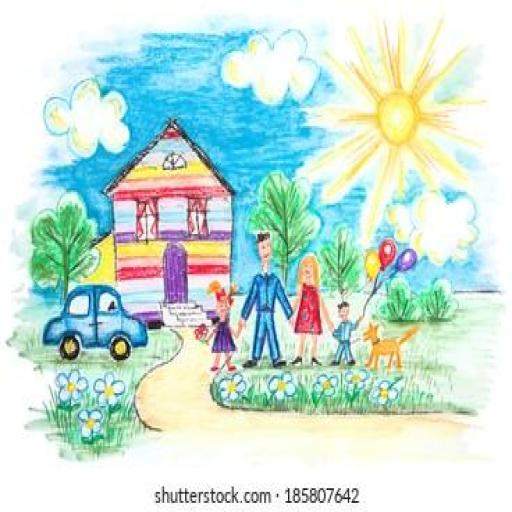person: (238, 230, 294, 371), (289, 250, 333, 370), (196, 280, 242, 377), (329, 295, 363, 367)
